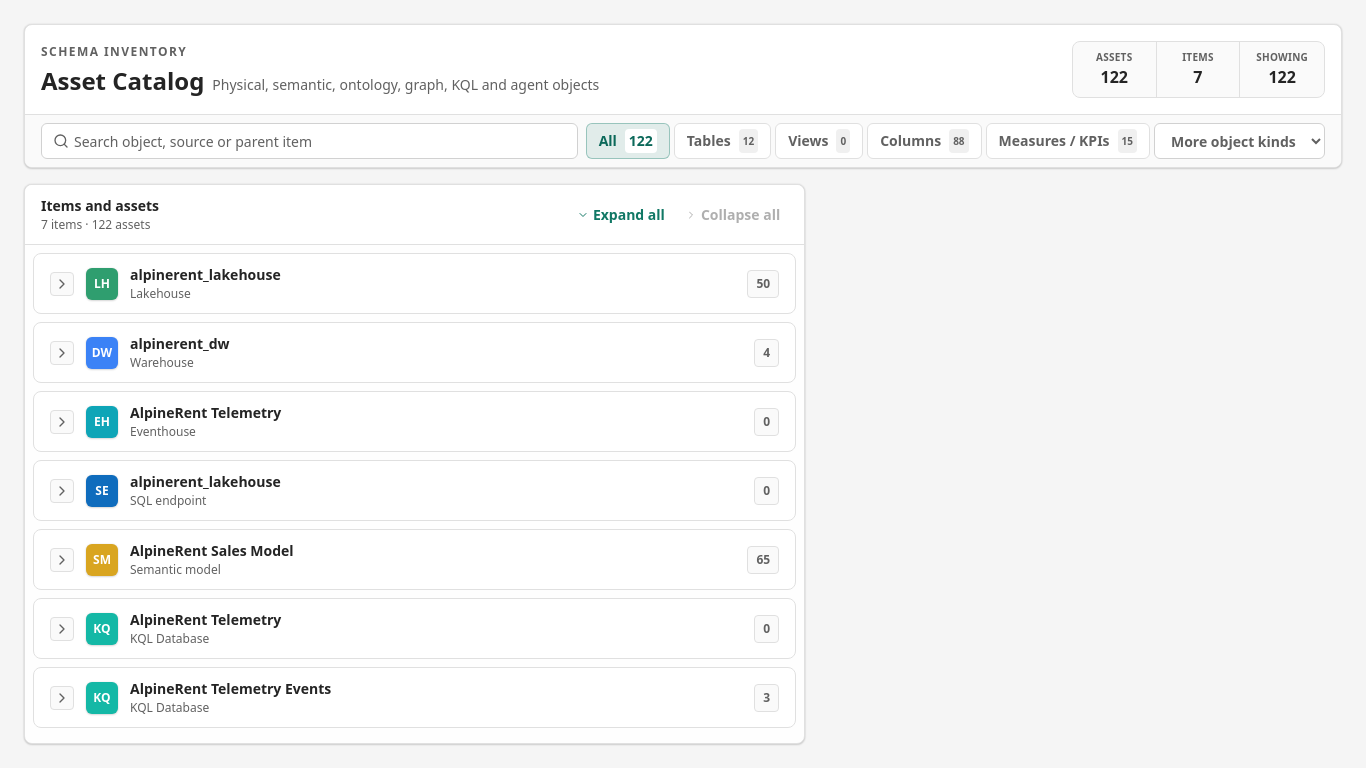
Test: AssetCatalogView › opens matching groups during search and restores collapsed state
Check: the button "Total Revenue" is not shown
Type "Total Revenue" into the field named "Search assets".
click(309, 141); type("Total Revenue")  # box x1=41 y1=123 x2=578 y2=159
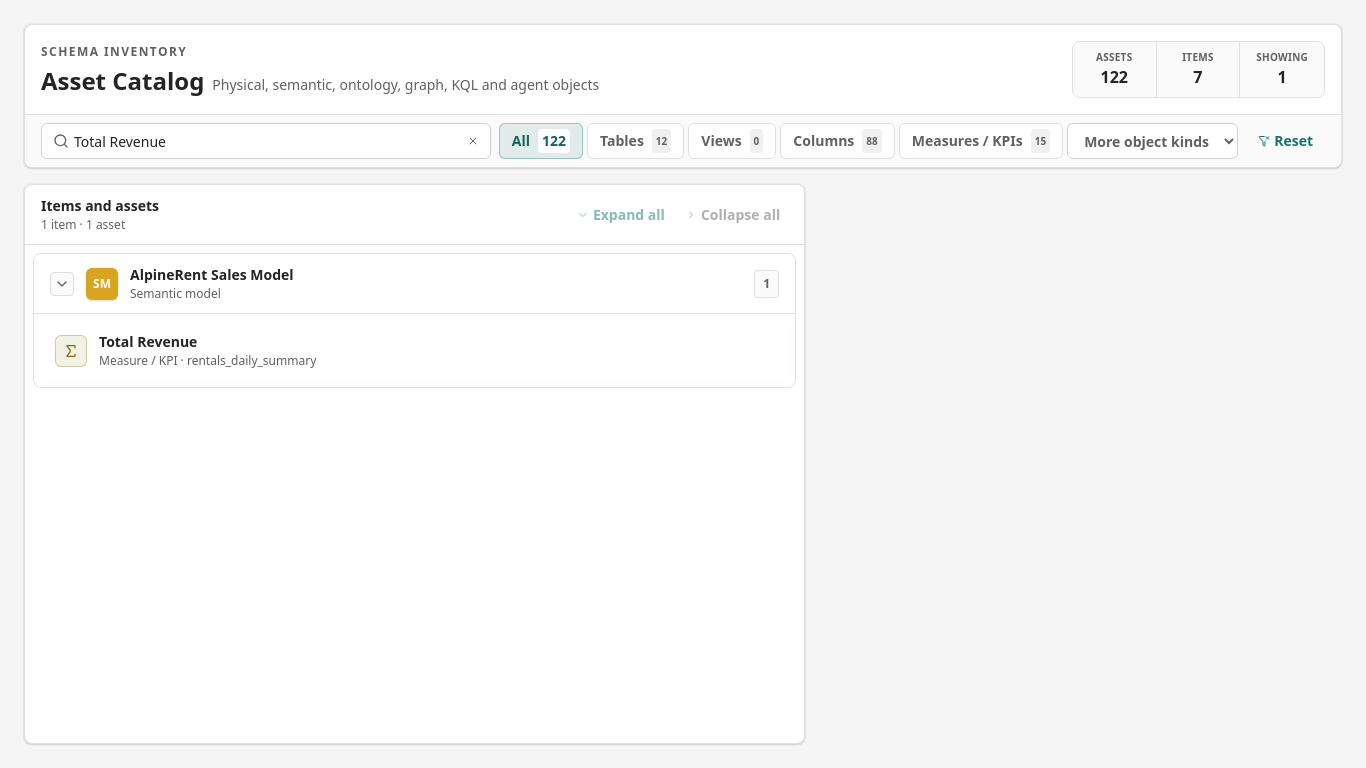
Check: the button "Total Revenue Measure / KPI · rentals_daily_summary" is shown, box x1=42 y1=322 x2=787 y2=379
Click the button named "Clear asset search".
click(473, 141)  # box x1=463 y1=123 x2=483 y2=159
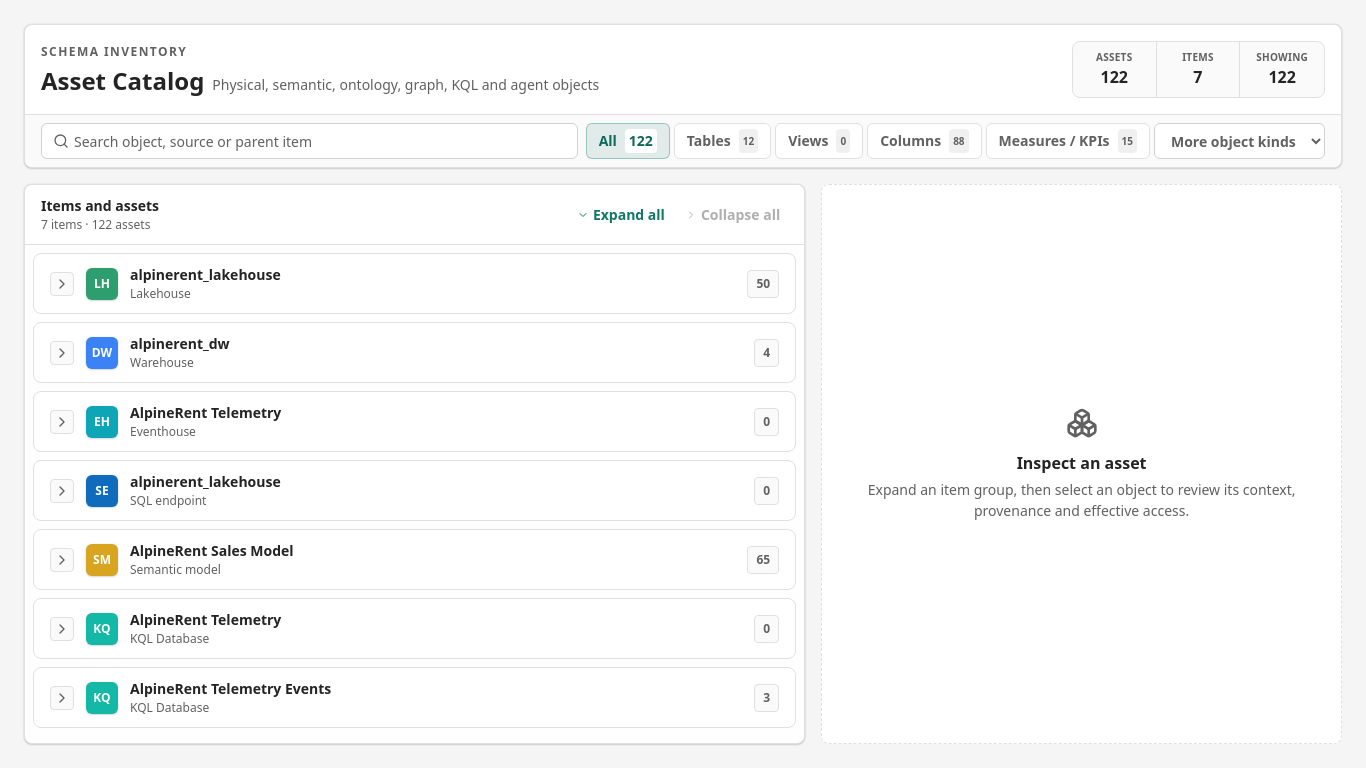
Check: the button "Total Revenue" is gone
